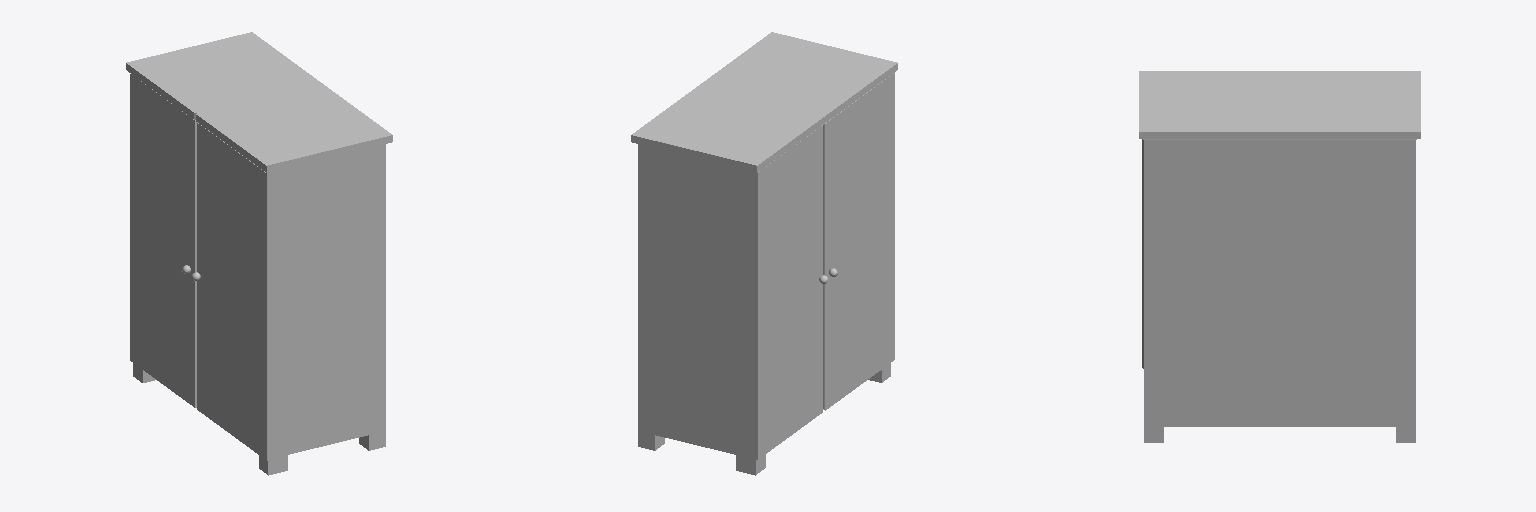
Rendered from schrank.obj.
The picture shows the model from 3 angles: view 1: azimuth 30°, elevation 25°; view 2: azimuth 150°, elevation 25°; view 3: azimuth 270°, elevation 25°; orthographic projection.
Visible parts, largest first — view 1: Box001, Object, Object002; view 2: Box001, Object, Object002; view 3: Box001.
Part boxes in pixels (left/top/right/bottom): Box001: left=126, top=32, right=392, bottom=475; Object: left=197, top=123, right=267, bottom=460; Object002: left=130, top=74, right=197, bottom=407; Box001: left=631, top=32, right=897, bottom=475; Object: left=824, top=73, right=894, bottom=410; Object002: left=756, top=125, right=822, bottom=459; Box001: left=1139, top=71, right=1420, bottom=442.
Size of the model in its own units: 13.35 by 29.99 by 24.49.